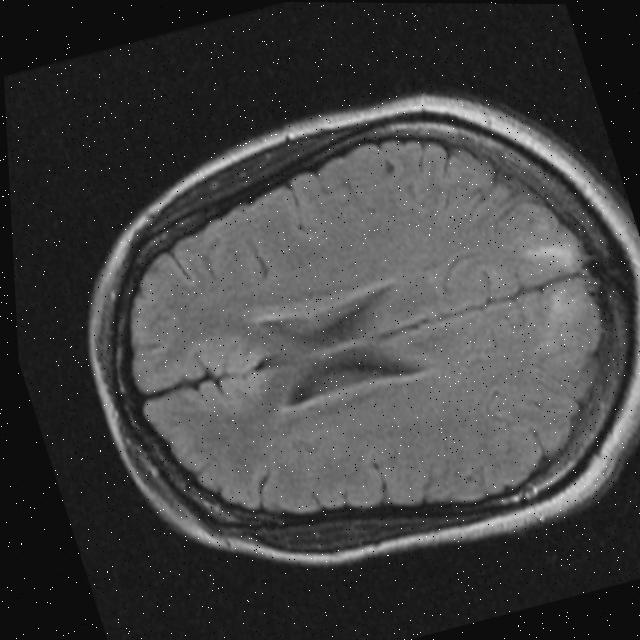NoTumor: (22, 38, 640, 625)
